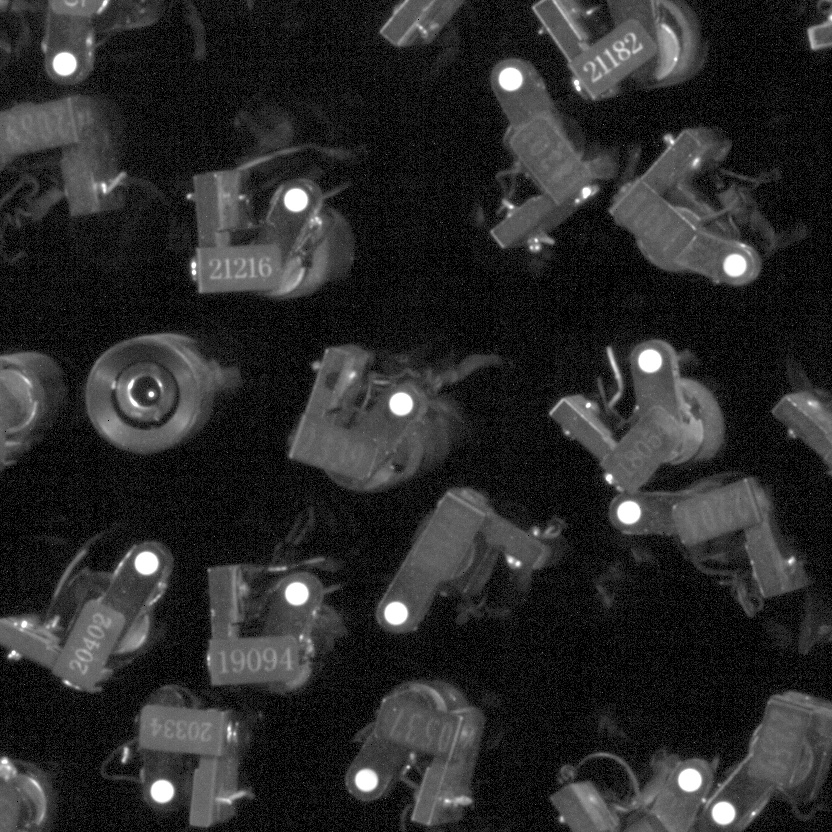collision: (606, 455, 666, 515)
